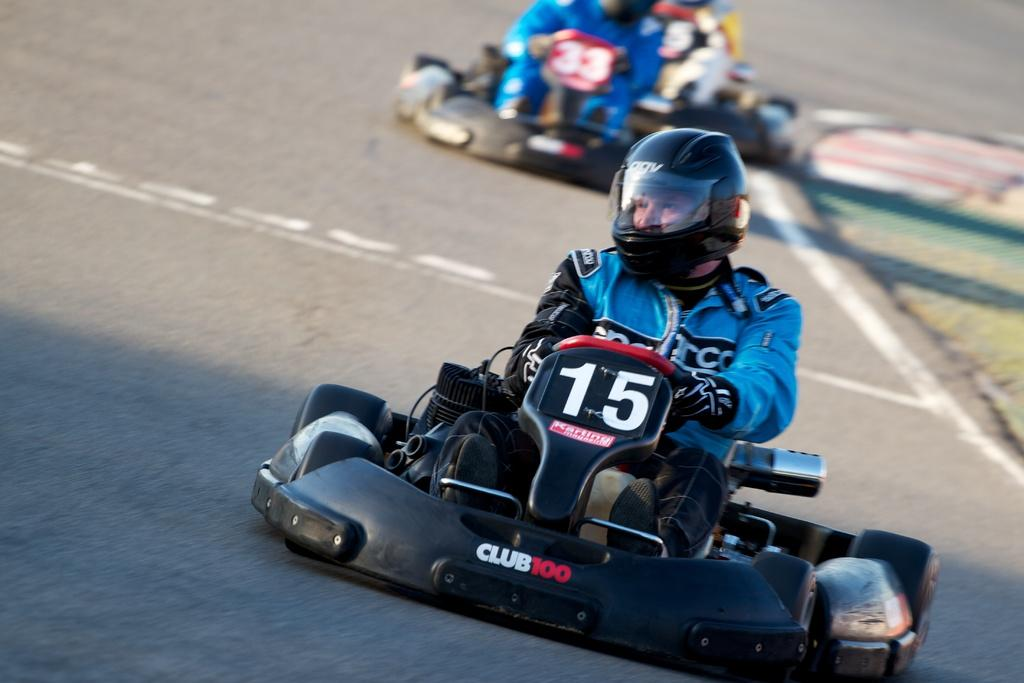helmet: (606, 128, 751, 278)
